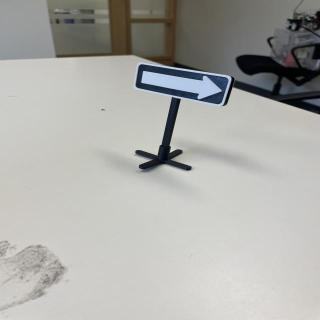sign_oneway_right: (134, 63, 236, 108)
